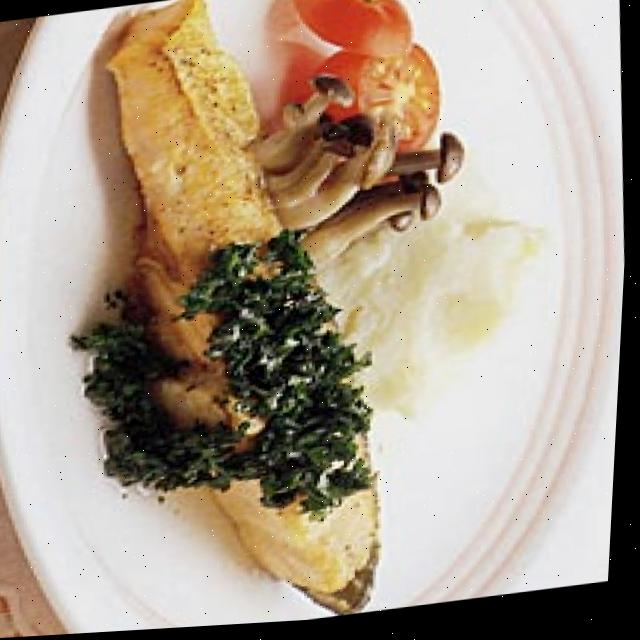熟制海鲜: (32, 0, 479, 637)
